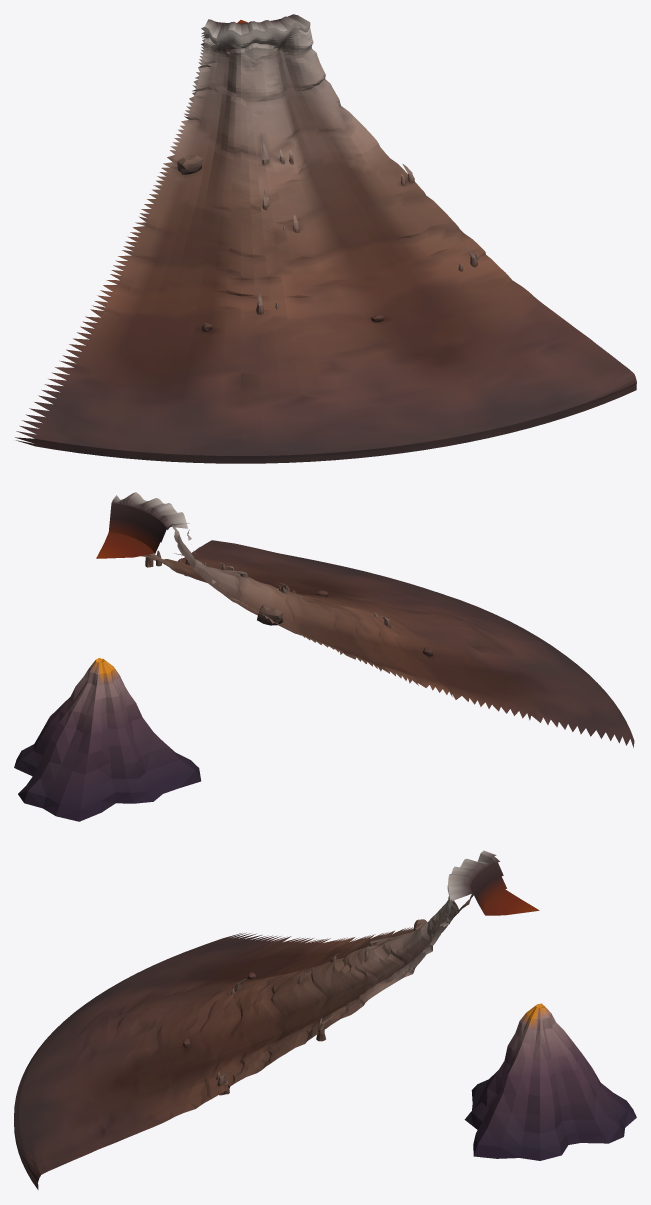
The model's file is volcano-s3-BHnUGAyf.glb.
The picture shows the model from 3 angles, top to bottom: view 1: azimuth 30°, elevation 25°; view 2: azimuth 150°, elevation 25°; view 3: azimuth 270°, elevation 25°; orthographic projection. The views are drawn at different scales.
Visible parts, largest first — view 1: sc_landmark_3; view 2: sc_landmark_3, sc_peak_2; view 3: sc_landmark_3, sc_peak_2.
Boxes of the visible parts, <box> form: sc_landmark_3: <box>15,14,636,463</box>; sc_landmark_3: <box>96,492,634,747</box>; sc_peak_2: <box>14,658,201,821</box>; sc_landmark_3: <box>14,850,539,1189</box>; sc_peak_2: <box>464,1003,636,1160</box>.
Size of the model in its own units: 489 by 223 by 517.
